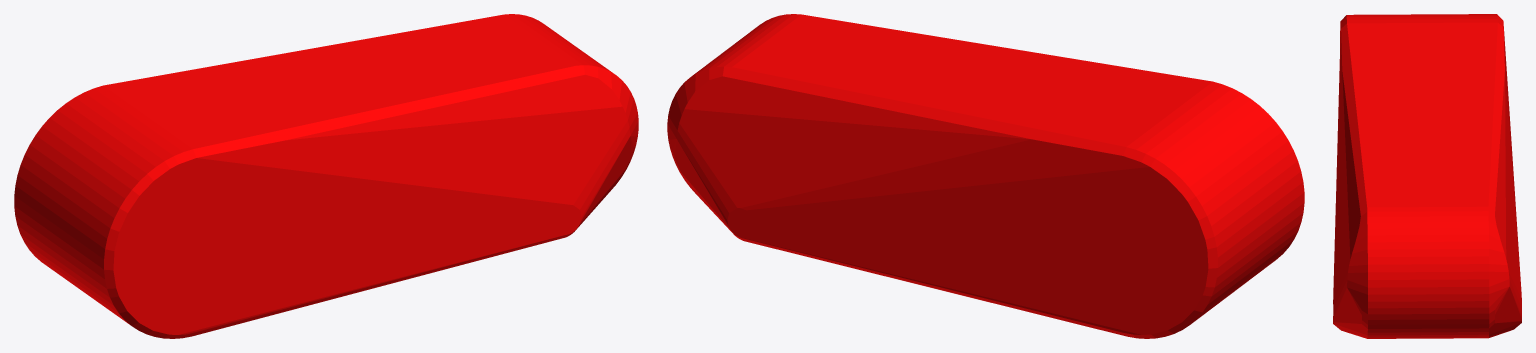
The model's file is col_proximal_phalanx.gltf.
3 views of the same model, side by side, from view 1: azimuth 30°, elevation 25°; view 2: azimuth 150°, elevation 25°; view 3: azimuth 270°, elevation 25° (orthographic). The views are drawn at different scales.
Visible parts, largest first — view 1: col_proximal_phalanx; view 2: col_proximal_phalanx; view 3: col_proximal_phalanx.
Boxes of the visible parts, x1,y1,x2,y2 form: col_proximal_phalanx: (14,14,638,338); col_proximal_phalanx: (667,14,1304,338); col_proximal_phalanx: (1333,14,1521,338).
Bounding box in the file's own units: 0.0923 × 0.03 × 0.0319.
